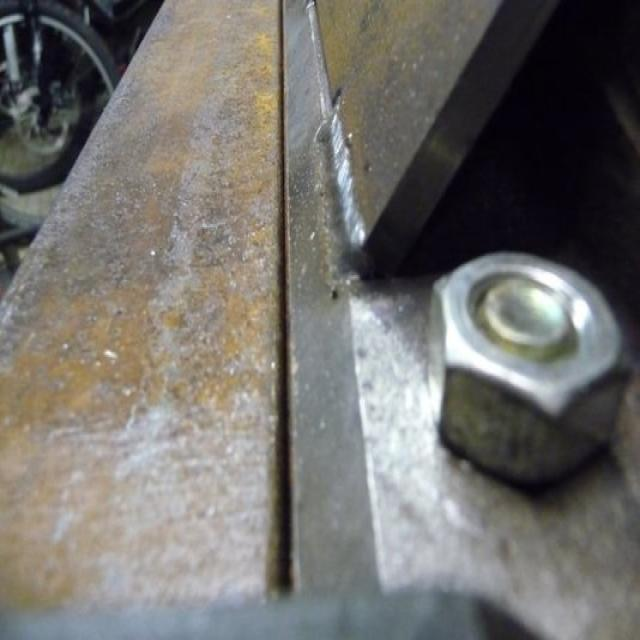bolt nut: (427, 246, 634, 494)
